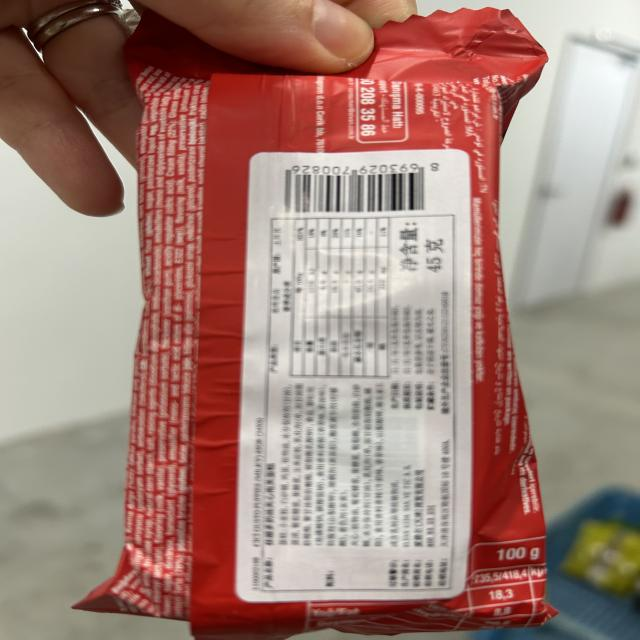object_name: (144, 71, 521, 619)
